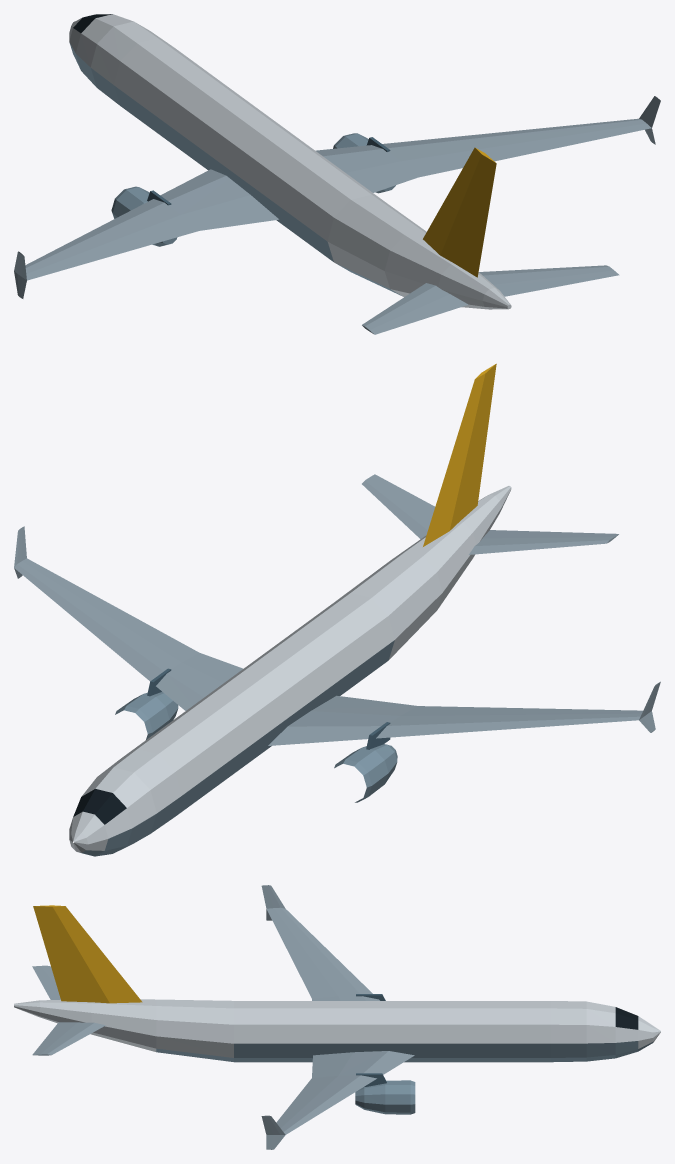
The picture shows the model from 3 angles, top to bottom: view 1: azimuth 30°, elevation 25°; view 2: azimuth 150°, elevation 25°; view 3: azimuth 270°, elevation 25°; orthographic projection. The views are drawn at different scales.
Parts seen in each view (by area): view 1: lod0; view 2: lod0; view 3: lod0.
Part boxes in pixels (box(x1,y1,x2,y2)): lod0: box(14, 14, 660, 334); lod0: box(14, 363, 660, 856); lod0: box(14, 885, 660, 1149).
Size of what is drawn, in the model's own units: 0.8429 by 0.2843 by 1.
